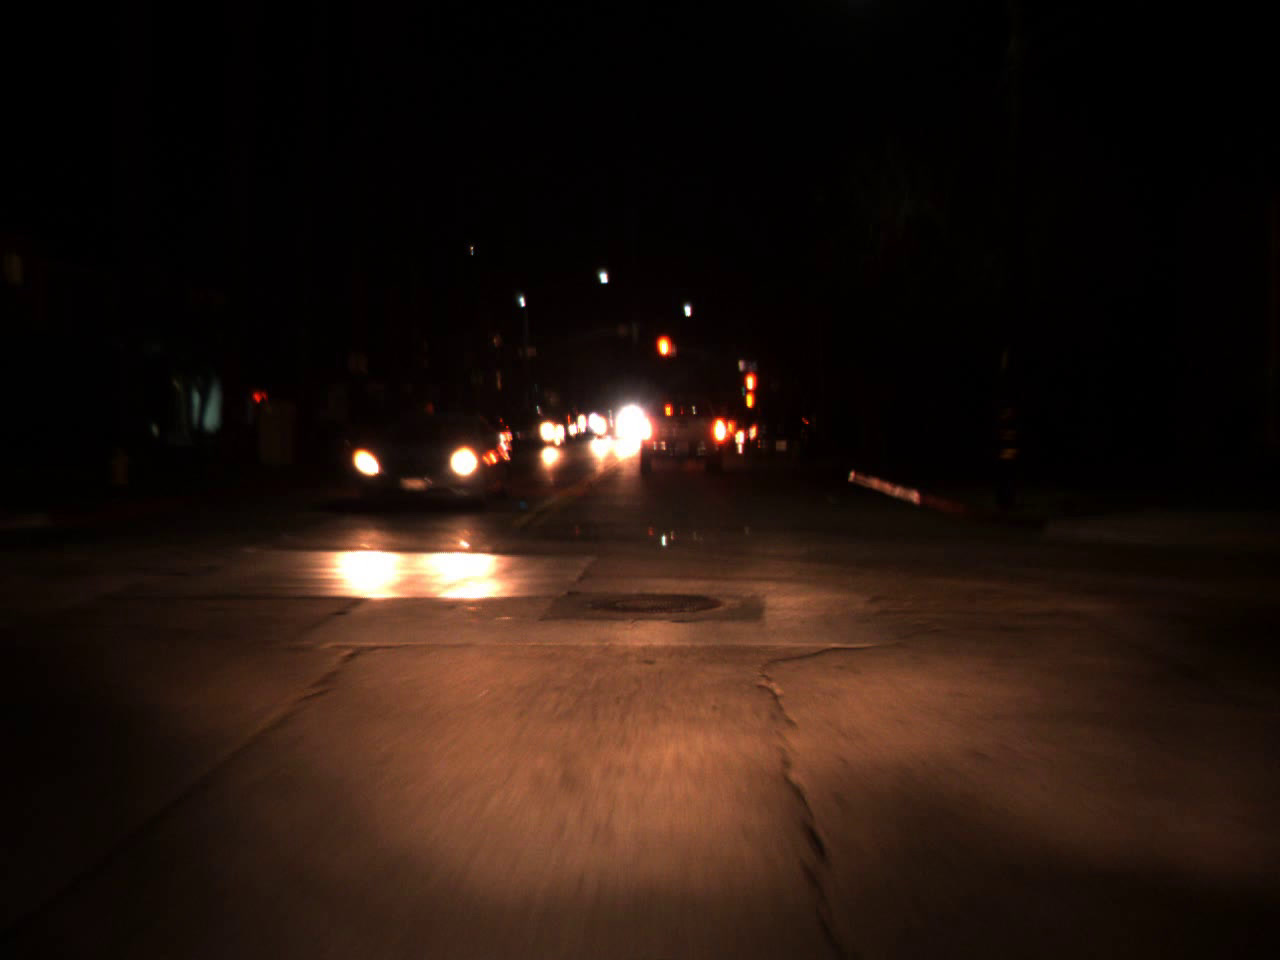stop: (653, 332, 675, 380), (742, 373, 754, 410)
